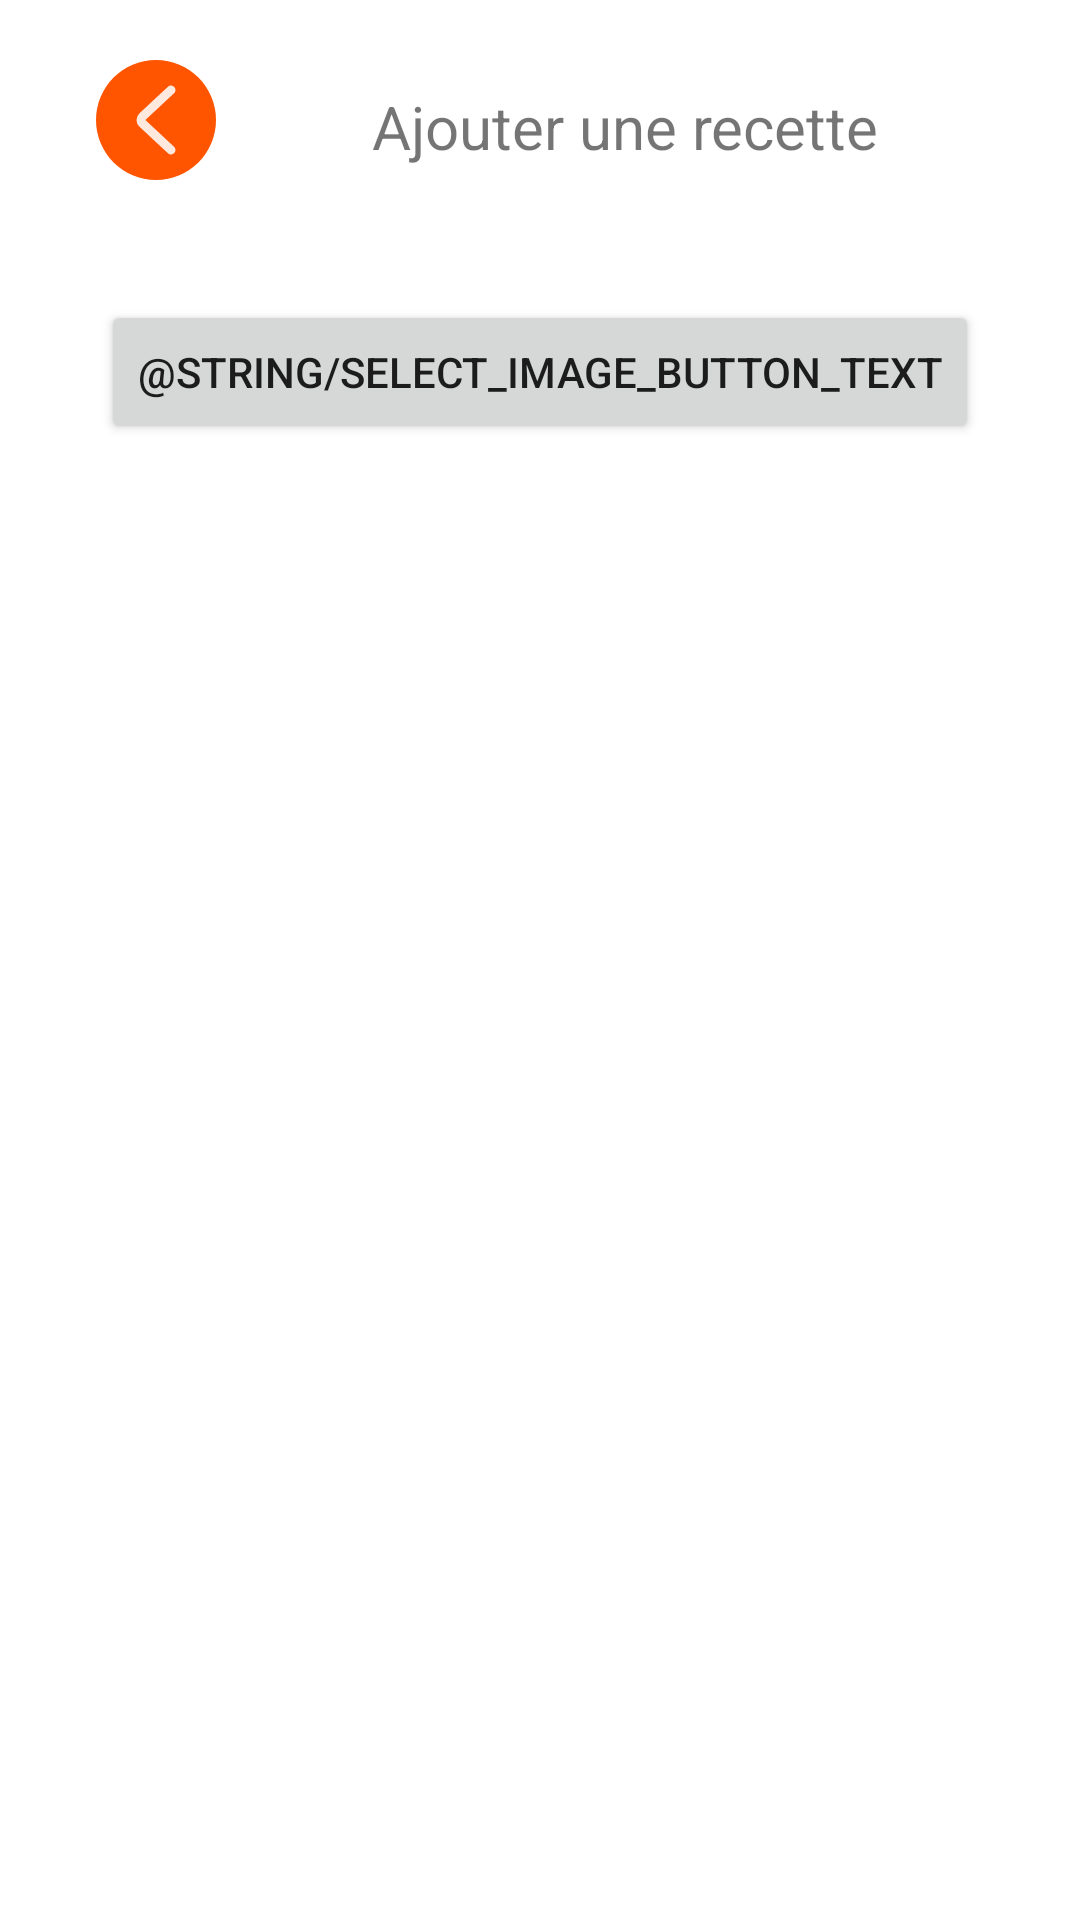

Icon click points for this 1080*1920 phone screenshot, format (x,y):
back: (156,120)
